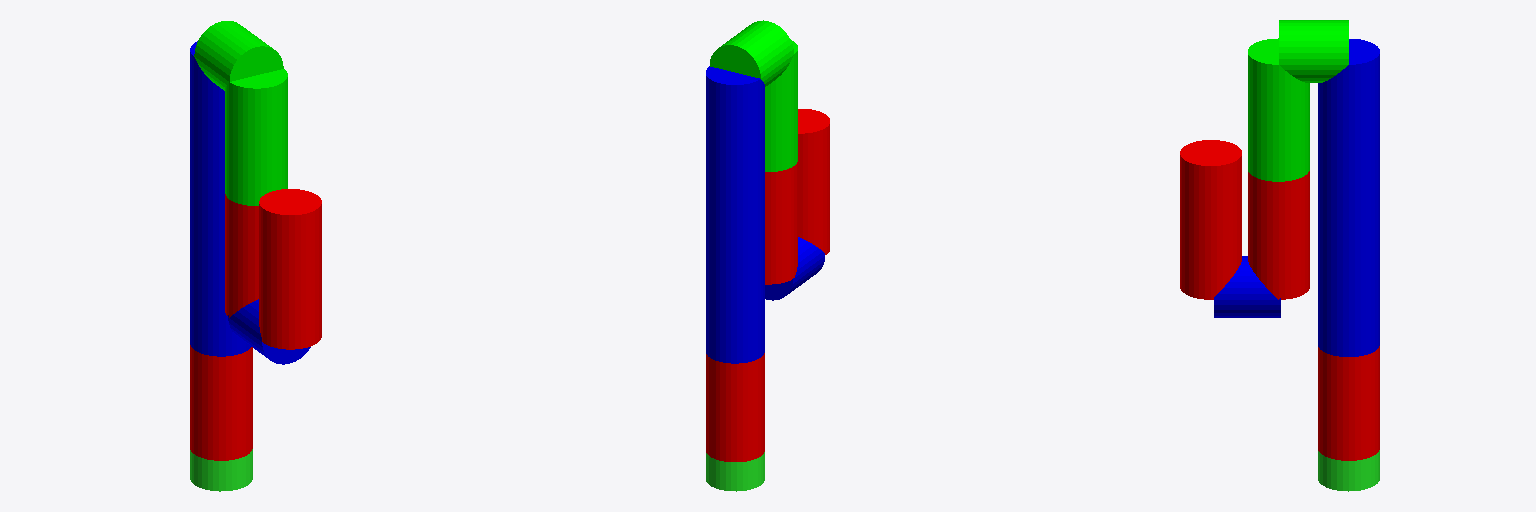
URDF robot description (robot):
<?xml version="1.0"?>
<robot xmlns:xacro="http://www.ros.org/wiki/xacro" name="robot">


    Define the "world" link
    <link name="world"></link>

    <!-- Define the joint connecting the "world" link to the "table_link" -->
    <joint name="table_joint" type="revolute">
        <origin xyz="0.0 0.0 0.0" rpy="0.0 0.0 0.0"/>
        <parent link="world"/>
        <child link="table_link"/>
        <axis xyz="0 0 1"/>
    </joint>

    <!-- Define the "table_link" -->
    <link name="table_link">  
        <visual>
            <origin xyz="0.0 0.0 0.0273625" rpy="0.0 0.0 0.0"/>
            <geometry>
                <cylinder length="0.054725" radius="0.05080"/>
            </geometry>
            <material name="green">
                <color rgba="0.2 1 0.2 1"/>
            </material>
        </visual>
        <collision>
            <origin xyz="0.0 0.0 0.0273625" rpy="0.0 0.0 0.0"/>
            <geometry>
                <cylinder length="0.054725" radius="0.05080"/>
            </geometry>
        </collision>
    </link>

    <joint name="base_joint" type="revolute">
        <origin xyz="0.0 0.0 0.054725" rpy="0.0 0.0 0.0"/>
        <parent link="table_link"/>
        <child link="base_link"/>
        <axis xyz="0.0 0.0 1.0"/>  
        <limit lower="-3.141692" upper="3.141692" effort="60.0" velocity="100.0"/>
    </joint>
    

    <!-- Define the "base_link" -->
    <link name="base_link">
        <visual>
            <origin xyz="0.0 0.0 0.0931375" rpy="0.0 0.0 0.0"/>
            <geometry>
                <cylinder length="0.186275" radius="0.05080"/>
            </geometry>
            <material name="red">
                <color rgba="1.0 0.0 0.0 1.0"/>
            </material>
        </visual>
        <collision>
            <origin xyz="0.0 0.0 0.0931375" rpy="0.0 0.0 0.0"/>
            <geometry>
                <cylinder length="0.186275" radius="0.05080"/>
            </geometry>
        </collision>
    </link>

    <!-- Define the joint connecting the "base_link" to the "sholder_link" -->
    <joint name="sholder_joint" type="revolute">
        <origin xyz="0.0 0.0 0.186275" rpy="0.0 0.0 0.0"/>
        <parent link="base_link"/>
        <child link="sholder_link"/>
        <axis xyz="0.0 1.0 0.0"/>
        <limit lower="-1.570796" upper="1.570796" effort="60.0" velocity="100.0"/>
    </joint>

    <!-- Define the "sholder_link" -->
    <link name="sholder_link">
        <visual>
            <origin xyz="0.0 0.0 0.2625" rpy="0.0 0.0 0.0"/>
            <geometry>
                <cylinder length="0.525" radius="0.05080"/>
            </geometry>
            <material name="blue">
                <color rgba="0.0 0.0 1.0 1.0"/>
            </material>
        </visual>
        <collision>
            <origin xyz="0.0 0.0 0.2625" rpy="0.0 0.0 0.0"/>
            <geometry>
                <cylinder length="0.525" radius="0.05080"/>
            </geometry>
        </collision>
    </link>

    <joint name="sholder_to_elbow_joint" type="fixed">
        <origin xyz="0.0 0.0 0.525" rpy="-1.570796 0.0 0.0"/>
        <parent link="sholder_link"/>
        <child link="sholder_to_elbow_link"/>
    </joint>

    <link name="sholder_to_elbow_link">
        <visual name="">
            <origin xyz="0.0 0.0 -0.057" rpy="0.0 0.0 0.0"/>
            <geometry>
                <cylinder length="0.114" radius="0.05080"/>
            </geometry>
            <material name="green">
                <color rgba="0.0 1.0 0.0 1.0"/>
            </material>
        </visual>
        <collision>
            <origin xyz="0.0 0.0 -0.057" rpy="0.0 0.0 0.0"/>
            <geometry>
                <cylinder length="0.114" radius="0.05080"/>
            </geometry>
        </collision>
    </link>

    <!-- Define the joint connecting the "sholder_link" to the "elbow_link" -->
    <joint name="elbow_joint" type="revolute">
        <origin xyz="0.0 0.0 -0.114" rpy="-1.570796 0.0 0.0"/>
        <parent link="sholder_to_elbow_link"/>
        <child link="elbow_link"/>
        <axis xyz="0.0 1.0 0.0"/>
        <limit lower="-3.141692" upper="3.141692" effort="60.0" velocity="100.0"/>
    </joint>

    <!-- Define the "elbow_link" -->
    <link name="elbow_link">
        <visual>
            <origin xyz="0.0 0.0 0.105" rpy="0.0 0.0 0.0"/>
            <geometry>
                <cylinder length="0.210" radius="0.05080"/>
            </geometry>
            <material name="green">
                <color rgba="0.0 1.0 0.0 1.0"/>
            </material>
        </visual>
        <collision>
            <origin xyz="0.0 0.0 0.105" rpy="0.0 0.0 0.0"/>
            <geometry>
                <cylinder length="0.210" radius="0.05080"/>
            </geometry>
        </collision>
    </link>

    <!-- Define the joint connecting the "elbow_link" to the "elbow_revolute_link" -->
    <joint name="elbow_revolute_joint" type="revolute">
        <origin xyz="0.0 0.0 0.210" rpy="0.0 0.0 0.0"/>
        <parent link="elbow_link"/>
        <child link="elbow_revolute_link"/>
        <axis xyz="0.0 0.0 -1.0"/>
        <limit lower="-1.570796" upper="1.570796" effort="60.0" velocity="100.0"/>
    </joint>

    <!-- Define the "elbow_revolute_link" -->
    <link name="elbow_revolute_link">
        <visual>
            <origin xyz="0.0 0.0 0.106" rpy="0.0 0.0 0.0"/>
            <geometry>
                <cylinder length="0.212" radius="0.05080"/>
            </geometry>
            <material name="red">
                <color rgba="1.0 0.0 0.0 1.0"/>
            </material>
        </visual>
        <collision>
            <origin xyz="0.0 0.0 0.106" rpy="0.0 0.0 0.0"/>
            <geometry>
                <cylinder length="0.212" radius="0.05080"/>
            </geometry>
        </collision>
    </link>

    <joint name="elbow_revolute_to_wrist_joint" type="fixed">
        <origin xyz="0.0 0.0 0.212" rpy="-1.570796 0.0 0.0"/>
        <parent link="elbow_revolute_link"/>
        <child link="elbow_revolute_to_wrist_link"/>
    </joint>

    <link name="elbow_revolute_to_wrist_link">
        <visual>
            <origin xyz="0.0 0.0 0.05080" rpy="0.0 0.0 0.0"/>
            <geometry>
                <cylinder length="0.110" radius="0.05080"/>
            </geometry>
            <material name="blue">
                <color rgba="0.0 0.0 1.0 1.0"/>
            </material>
        </visual>
        <collision>
            <origin xyz="0.0 0.0 0.05080" rpy="0.0 0.0 0.0"/>
            <geometry>
                <cylinder length="0.110" radius="0.05080"/>
            </geometry>
        </collision>
    </link>

    <!-- Define the joint connecting the "elbow_revolute_link" to the "wrist_link" -->
    <joint name="wrist_joint" type="revolute">
        <origin xyz="0.0 0.0 0.110" rpy="-1.570796 0.0 0.0"/>
        <parent link="elbow_revolute_to_wrist_link"/>
        <child link="wrist_link"/>
        <axis xyz="0.0 -1.0 0.0"/>
        <limit lower="-3.141692" upper="3.141692" effort="60.0" velocity="100.0"/>
    </joint>

    <!-- Define the "wrist_link" -->
    <link name="wrist_link">
        <visual>
            <origin xyz="0.0 0.0 0.095" rpy="0.0 0.0 0.0"/>
            <geometry>
                <cylinder length="0.190" radius="0.05080"/>
            </geometry>
            <material name="green">
                <color rgba="1.0 0.0 0.0 1.0"/>
            </material>
        </visual>
        <collision>
            <origin xyz="0.0 0.0 0.095" rpy="0.0 0.0 0.0"/>
            <geometry>
                <cylinder length="0.190" radius="0.05080"/>
            </geometry>
        </collision>
    </link>

    <!-- Define the joint connecting the "wrist_link" to the "wrist_revolute_link" -->
    <joint name="wrist_revolute_link" type="revolute">
        <origin xyz="0.0 0.0 0.190" rpy="0 0.0 0.0"/>
        <parent link="wrist_link"/>
        <child link="wrist_revolute_link"/>
        <axis xyz="0.0 0.0 1.0"/>
        <limit lower="-3.141692" upper="3.141692" effort="60.0" velocity="100.0"/>
    </joint>

    <!-- Define the "wrist_revolute_link" -->
    <link name="wrist_revolute_link">
        <visual>
            <origin xyz="0.0 0.0 0.025" rpy="0.0 0.0 0.0"/>
            <geometry>
                <cylinder length="0.05" radius="0.05080"/>
            </geometry>
            <material name="red">
                <color rgba="1.0 0.0 0.0 1.0"/>
            </material>
        </visual>
        <collision>
            <origin xyz="0.0 0.0 0.025" rpy="0.0 0.0 0.0"/>
            <geometry>
                <cylinder length="0.05" radius="0.05080"/>
            </geometry>
        </collision>
    </link>
</robot>

--- What the picture shows (computed from the rendered views, not written in the file) ---
The picture shows the robot from 3 angles, left to right: view 1: azimuth 30°, elevation 25°; view 2: azimuth 150°, elevation 25°; view 3: azimuth 270°, elevation 25°; orthographic projection.
Robot: robot — 10 links, 9 joints (7 revolute, 2 fixed); root link world; default pose: every joint at zero.
Links seen in each view (by area): view 1: sholder_link, elbow_link, wrist_link, base_link, sholder_to_elbow_link, elbow_revolute_link, wrist_revolute_link, table_link, elbow_revolute_to_wrist_link; view 2: sholder_link, base_link, elbow_revolute_link, sholder_to_elbow_link, elbow_link, wrist_link, table_link, wrist_revolute_link, elbow_revolute_to_wrist_link; view 3: sholder_link, elbow_link, elbow_revolute_link, base_link, wrist_link, sholder_to_elbow_link, wrist_revolute_link, elbow_revolute_to_wrist_link, table_link.
Boxes of the visible links, bbox=[...] form: sholder_link: bbox=[190, 41, 250, 356]; elbow_link: bbox=[225, 69, 287, 205]; wrist_link: bbox=[259, 232, 321, 349]; base_link: bbox=[190, 345, 252, 460]; sholder_to_elbow_link: bbox=[194, 21, 283, 90]; elbow_revolute_link: bbox=[225, 194, 258, 317]; wrist_revolute_link: bbox=[259, 189, 321, 242]; table_link: bbox=[190, 449, 252, 491]; elbow_revolute_to_wrist_link: bbox=[228, 299, 310, 364]; sholder_link: bbox=[706, 66, 764, 363]; base_link: bbox=[706, 353, 764, 461]; elbow_revolute_link: bbox=[765, 162, 797, 284]; sholder_to_elbow_link: bbox=[710, 20, 793, 86]; elbow_link: bbox=[765, 40, 797, 171]; wrist_link: bbox=[798, 151, 829, 254]; table_link: bbox=[706, 452, 764, 491]; wrist_revolute_link: bbox=[798, 109, 829, 159]; elbow_revolute_to_wrist_link: bbox=[765, 237, 824, 300]; sholder_link: bbox=[1318, 39, 1379, 356]; elbow_link: bbox=[1248, 38, 1309, 181]; elbow_revolute_link: bbox=[1248, 171, 1309, 299]; base_link: bbox=[1318, 346, 1379, 460]; wrist_link: bbox=[1180, 183, 1241, 299]; sholder_to_elbow_link: bbox=[1279, 20, 1348, 82]; wrist_revolute_link: bbox=[1180, 140, 1241, 193]; elbow_revolute_to_wrist_link: bbox=[1214, 256, 1280, 317]; table_link: bbox=[1318, 450, 1379, 491].
Bounding box of the posed robot: 0.1016 × 0.3256 × 0.8168 m (x, y, z).
Geometry: primitives only (box / cylinder / sphere), no mesh files.